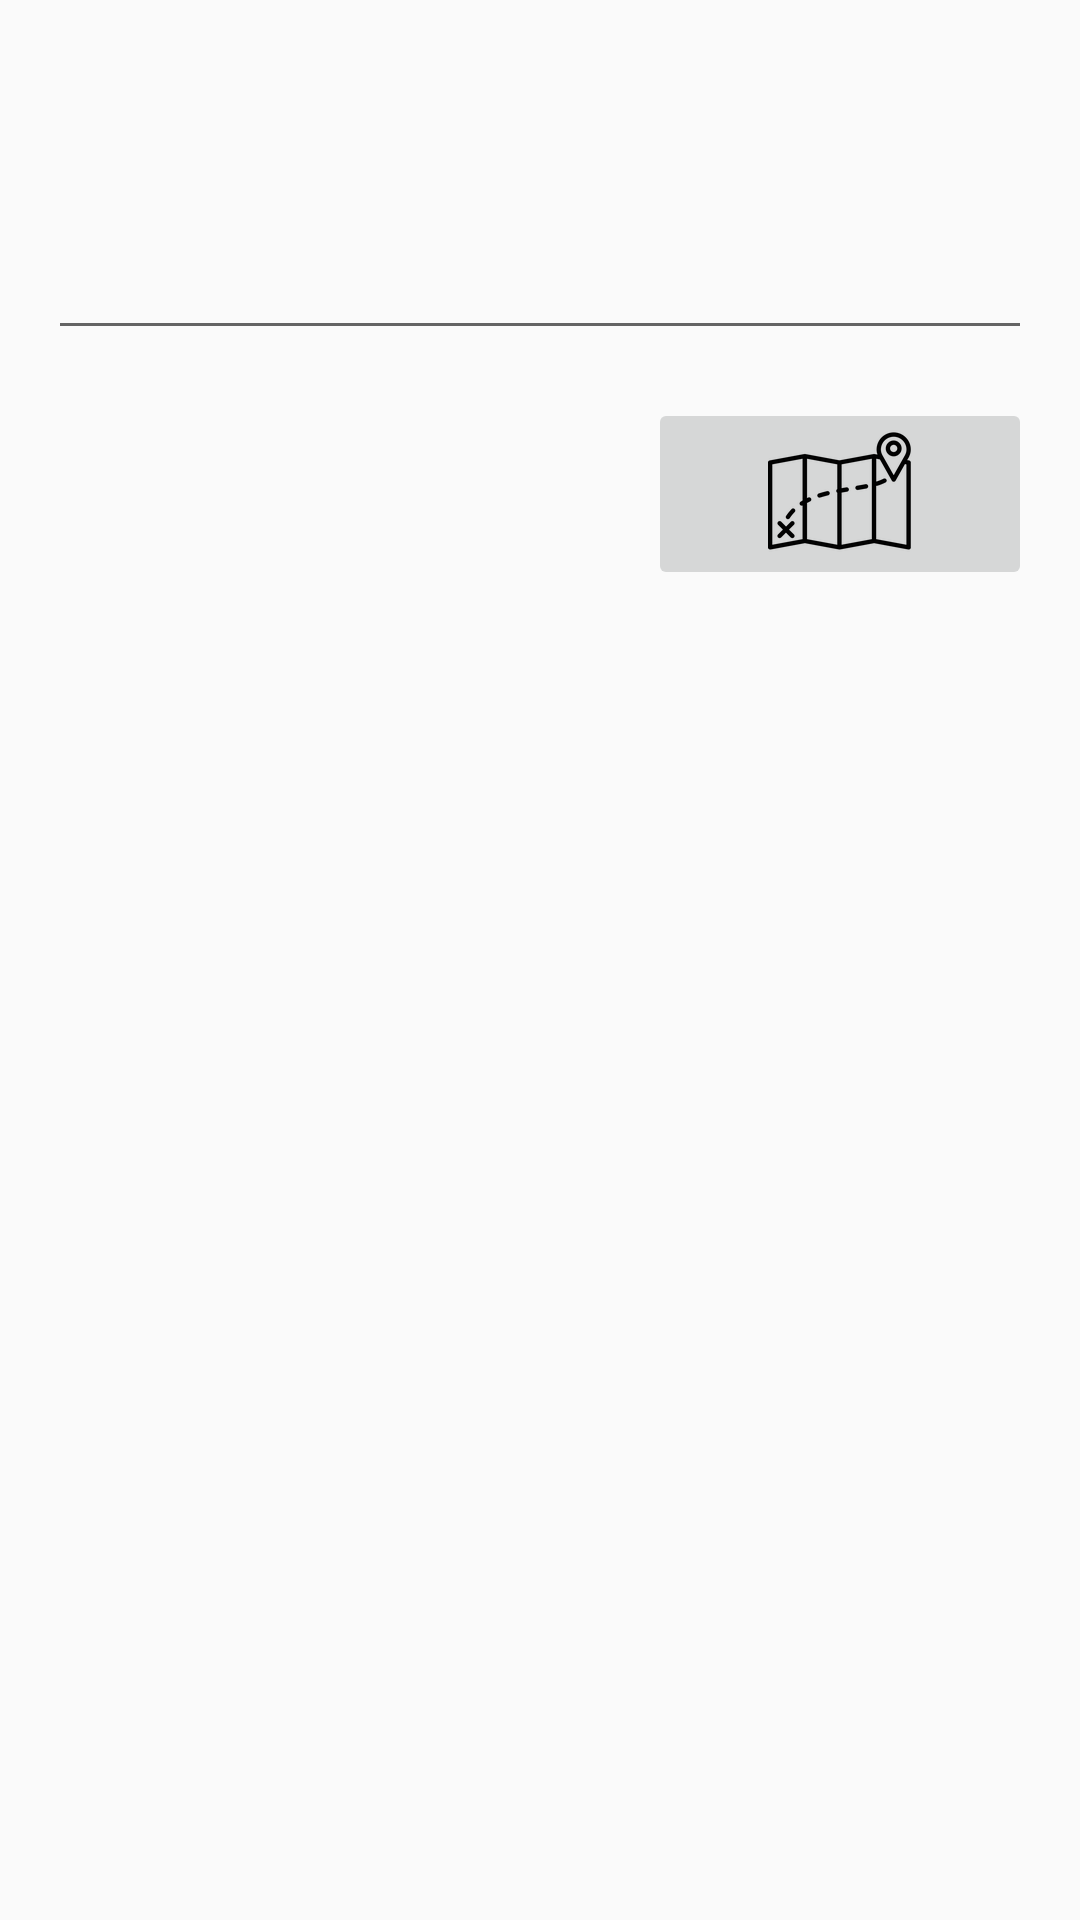

Named icons in this screenshot (1080w x 1920h) and their centers, point (x, y):
13. Ubicación: point (840, 494)
